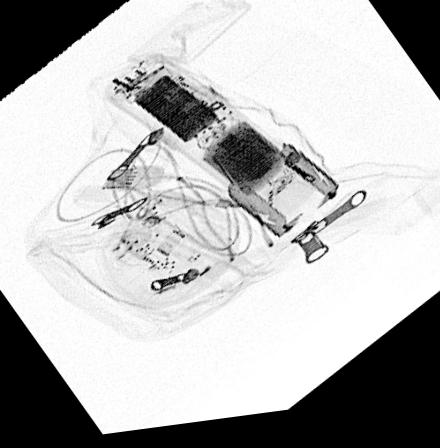Baton: (106, 54, 344, 247)
